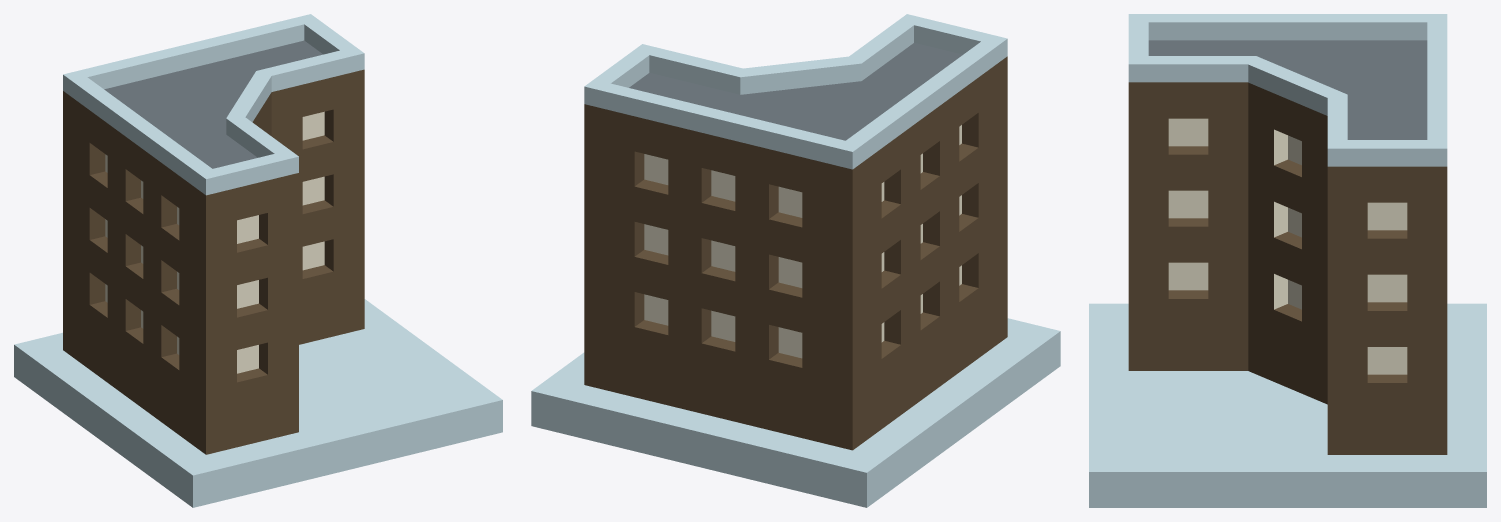
Rendered from Building_8_Base (Brown).obj.
3 views of the same model, side by side, from view 1: azimuth 30°, elevation 25°; view 2: azimuth 150°, elevation 25°; view 3: azimuth 270°, elevation 25° (orthographic). The views are drawn at different scales.
Visible parts, largest first — view 1: Building_8_Base_(Brown); view 2: Building_8_Base_(Brown); view 3: Building_8_Base_(Brown).
Part boxes in pixels (bbox=[...]): Building_8_Base_(Brown): bbox=[14, 14, 502, 507]; Building_8_Base_(Brown): bbox=[531, 14, 1060, 507]; Building_8_Base_(Brown): bbox=[1089, 14, 1486, 507].
Bounding box in the file's own units: 2 × 1.9 × 2.
